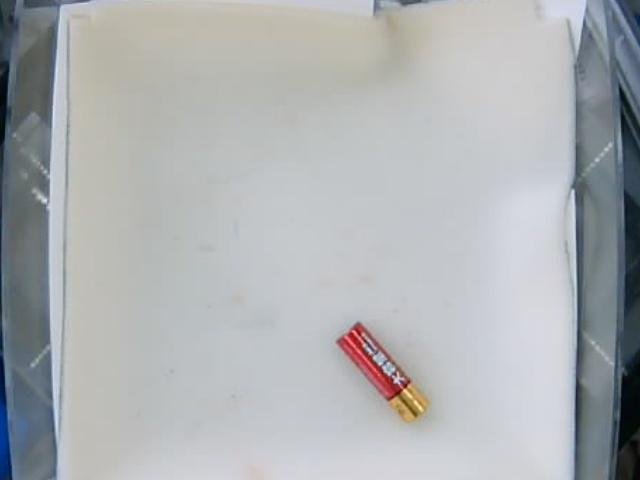Battery: (332, 322, 427, 421)
